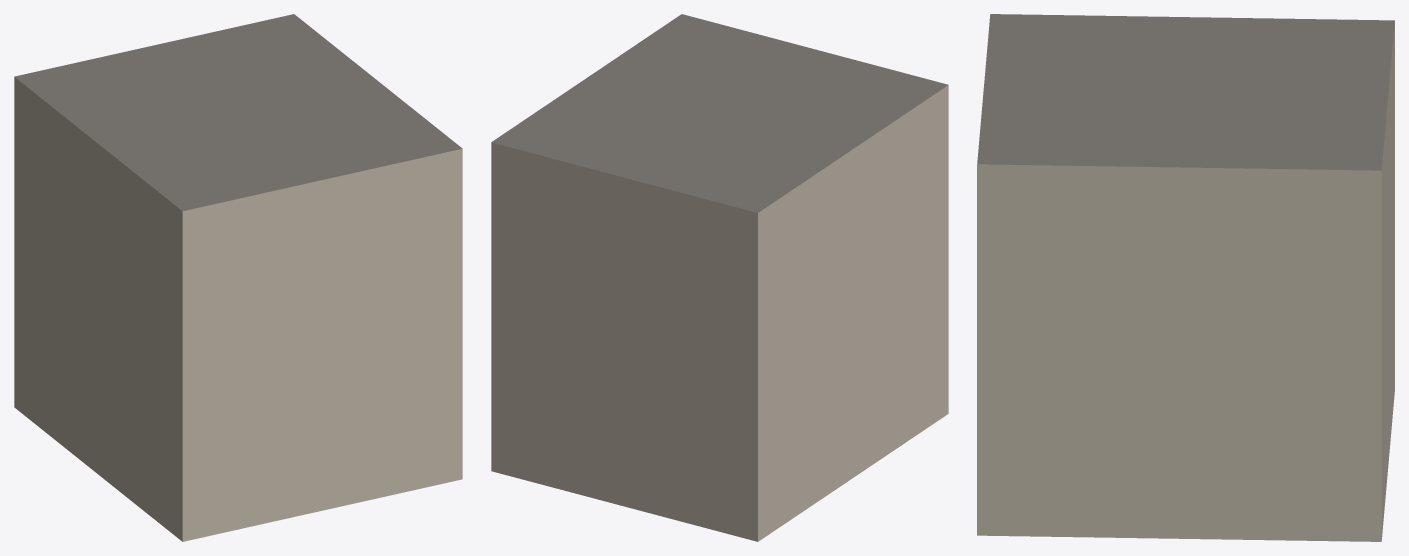
The picture shows the model from 3 angles, left to right: view 1: azimuth 30°, elevation 25°; view 2: azimuth 150°, elevation 25°; view 3: azimuth 270°, elevation 25°; orthographic projection. The views are drawn at different scales.
Parts seen in each view (by area): view 1: HP-w1286965194; view 2: HP-w1286965194; view 3: HP-w1286965194.
Part boxes in pixels (x1,y1,x2,y2): HP-w1286965194: (14,14,462,541); HP-w1286965194: (491,14,948,541); HP-w1286965194: (977,14,1394,541).
Bounding box in the file's own units: 16.28 × 18 × 18.35.
